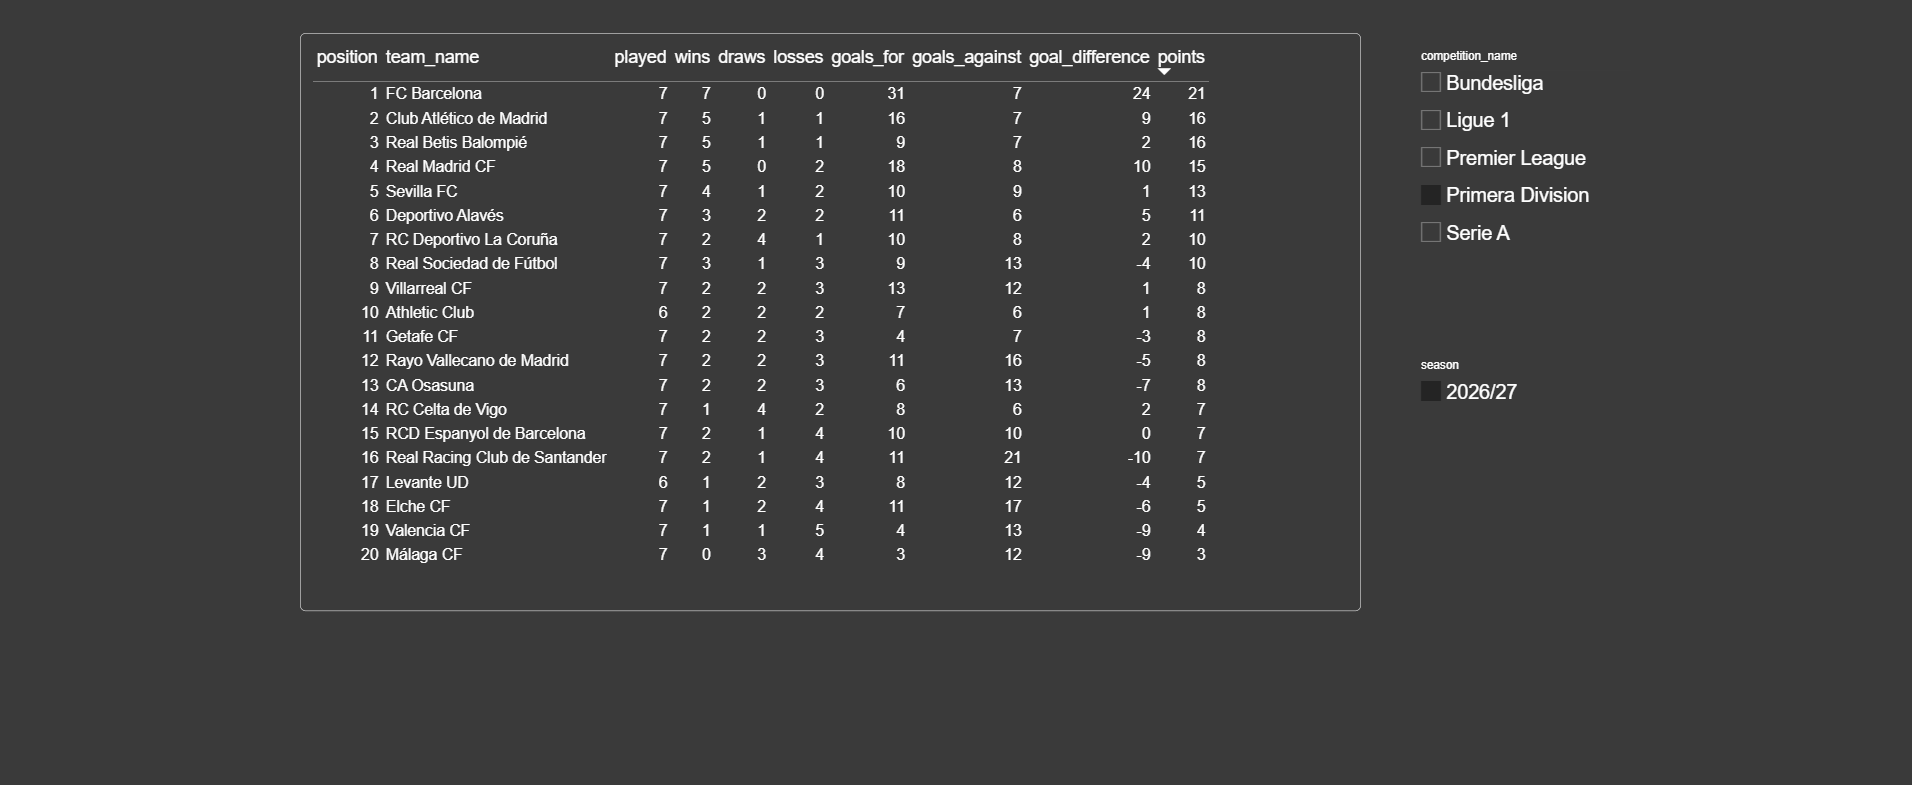

The page's visual inventory and layout, read from the dashboard file:
{"tool":"powerbi","page":{"name":"Standings","canvas":[1920,1080],"ordinal":1},"visuals":[{"type":"tableEx","fields":{"Values":["team_standings.position","team_standings.team_name","team_standings.played","team_standings.wins","team_standings.draws","team_standings.losses","team_standings.goals_for","team_standings.goals_against","team_standings.goal_difference","team_standings.points"]},"box":[67.9,47.3,1442.9,786.3],"z":0},{"type":"slicer","fields":{"Values":["team_standings.competition_name"]},"box":[1584.9,70,294.3,290.2],"z":1000},{"type":"slicer","fields":{"Values":["team_standings.season"]},"box":[1584.9,489.9,257.3,164.7],"z":2000}]}

Visuals, with their boxes on the page's 1920x1080 design canvas (x1, y1, x2, y2). These are canvas units, not pixel positions in the 1912x785 screenshot, which may show the page scaled, cropped or inside an application window:
tableEx - team_standings.position x team_standings.team_name: detection(68, 47, 1511, 834)
slicer - team_standings.competition_name: detection(1585, 70, 1879, 360)
slicer - team_standings.season: detection(1585, 490, 1842, 655)
